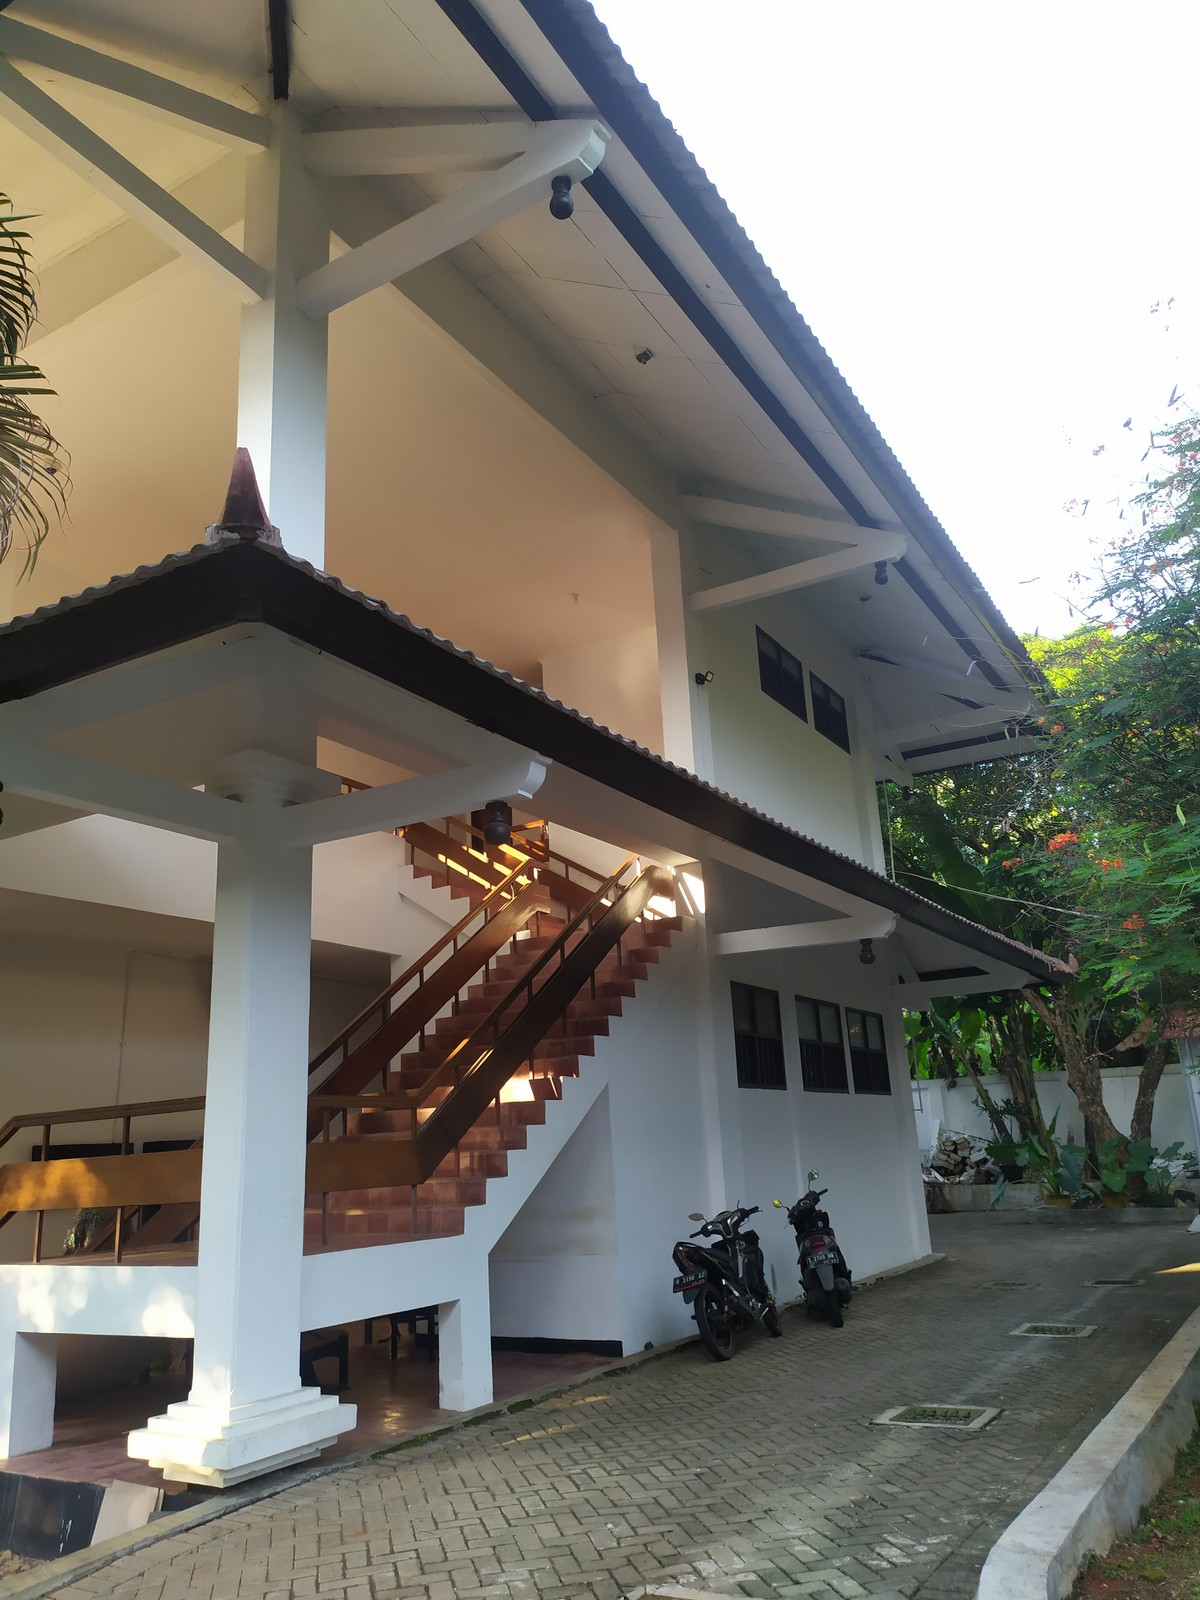concrete beam: (18, 745, 246, 850), (284, 775, 500, 855)
concrete column: (168, 775, 326, 1431), (224, 100, 335, 582), (649, 515, 730, 787)
